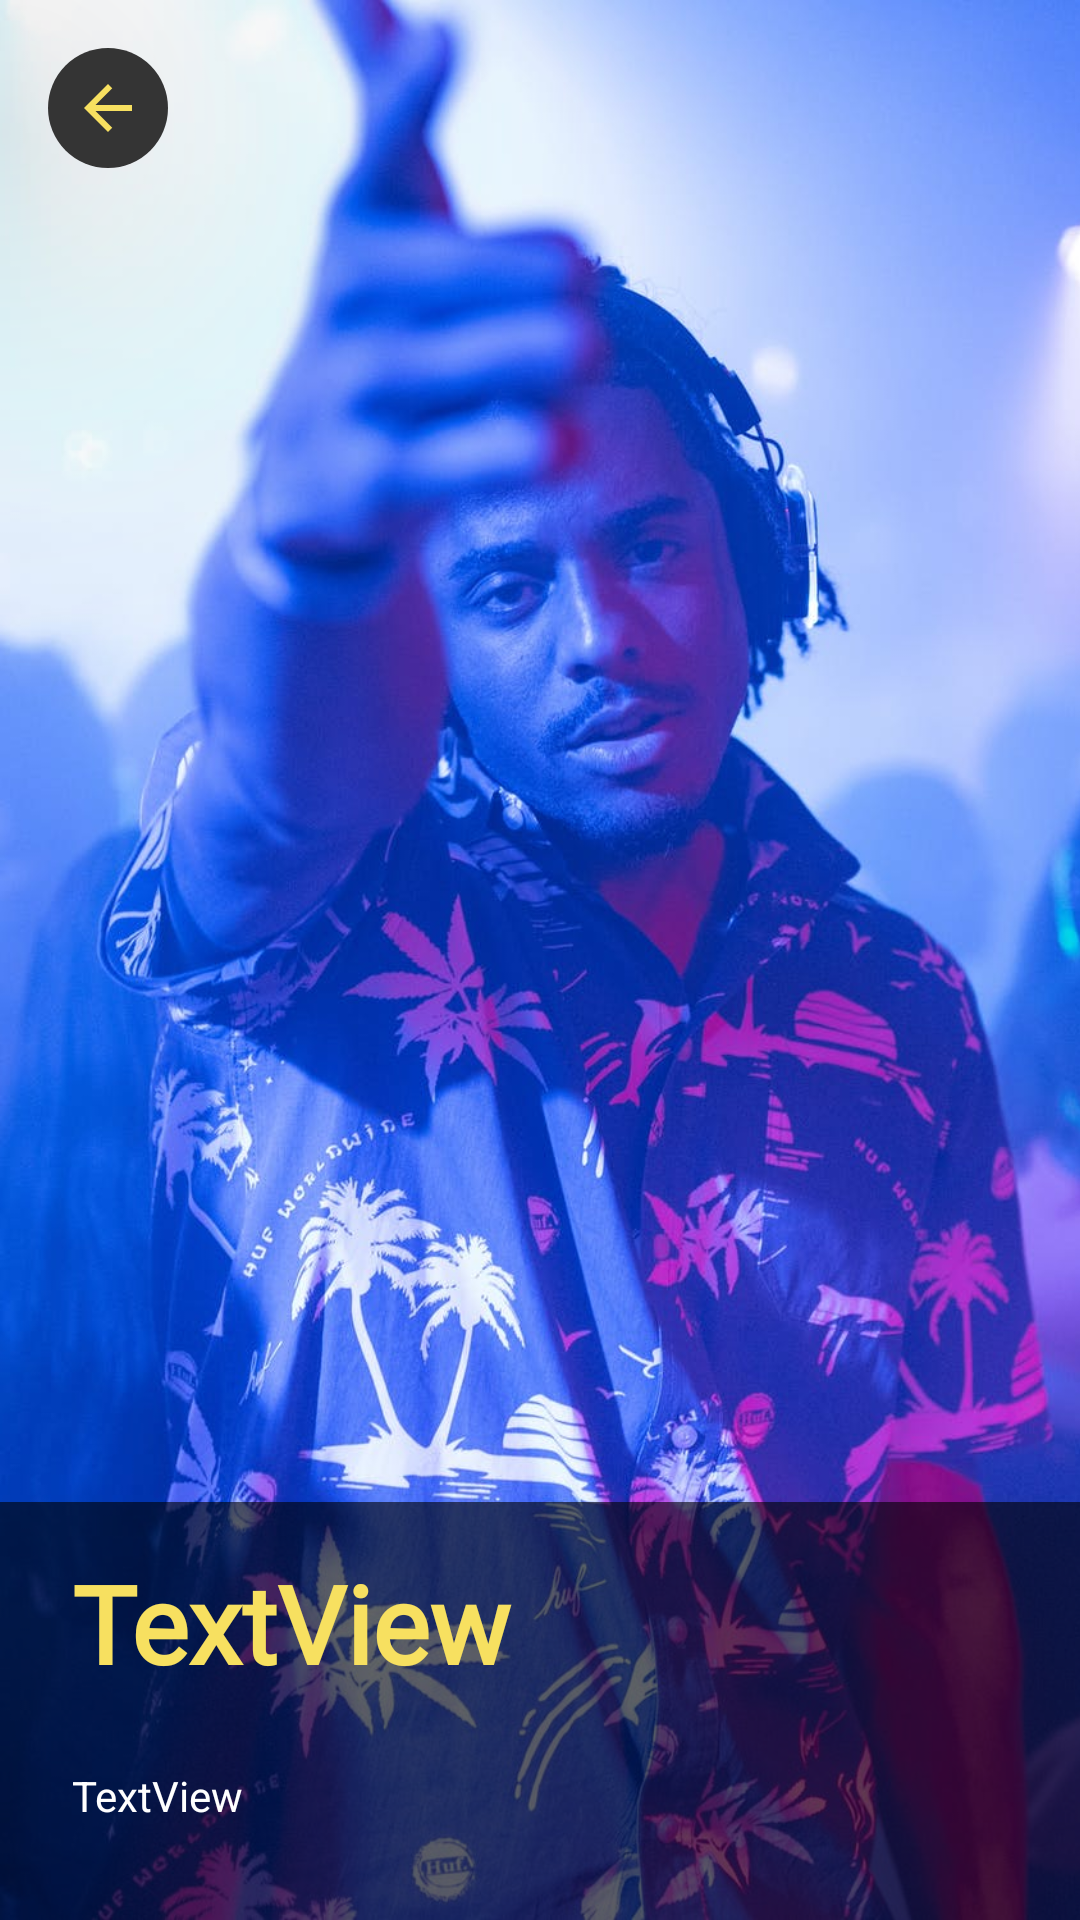

Screen size 1080px×1920px. Icon name, then its center in pixels as point (x, y):
arrow back: point (108, 108)
